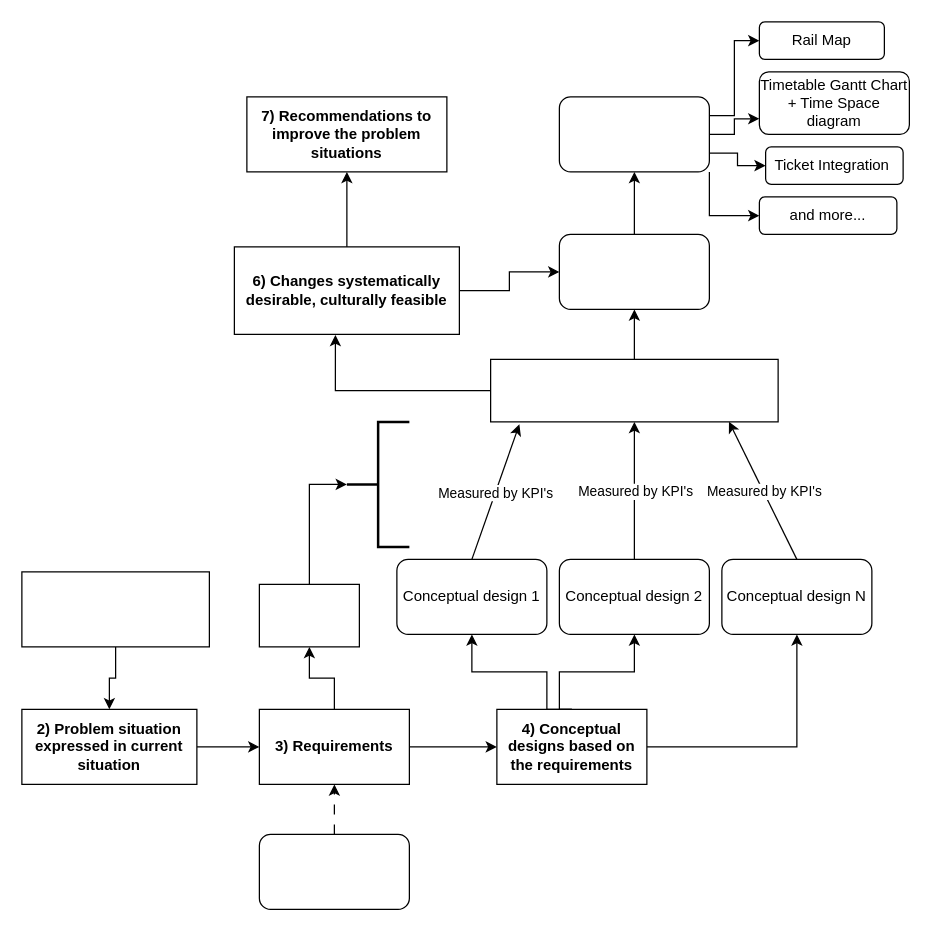
The diagram is 931 pixels wide and 931 high, and some of its shapes have lost their labels. Here are the shapes that lost their labels. From the top down, the centre of each, then its label:
At pixel 633 134: "Visualisations of the Final Design".
At pixel 633 271: "Final Design".
At pixel 633 390: "5) Comparison of designs to the current situation".
At pixel 115 609: "1) Problem situation considered problematic".
At pixel 308 615: "KPI's".
At pixel 333 871: "Literature".
